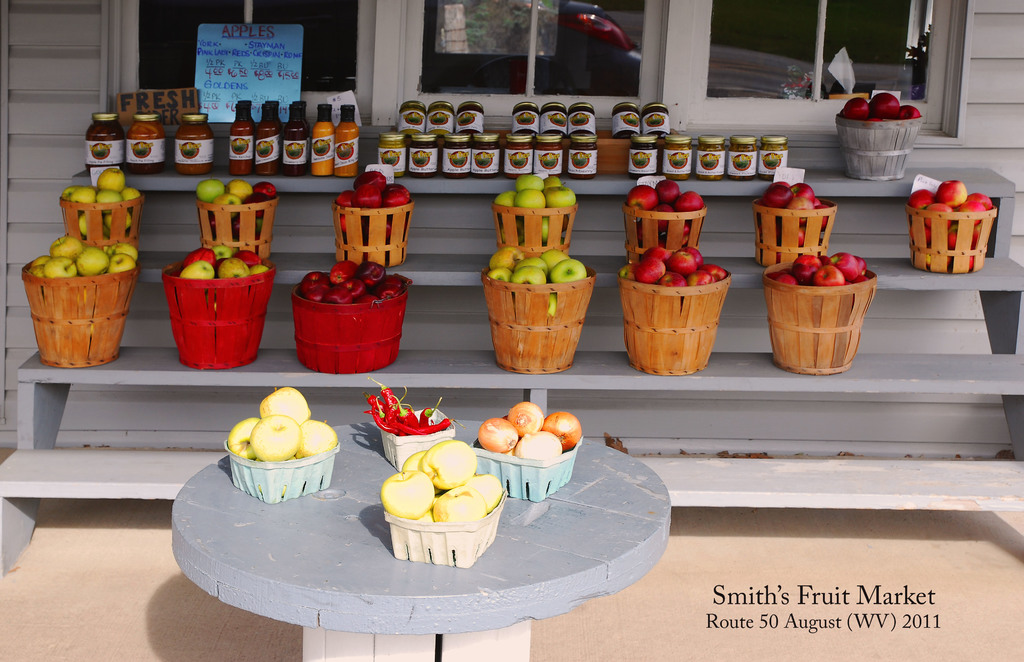Apple: (908, 178, 992, 268), (483, 246, 588, 312), (756, 178, 832, 261), (171, 243, 265, 307), (492, 170, 574, 242), (62, 165, 140, 236), (335, 170, 411, 242), (626, 179, 705, 247), (298, 257, 403, 305), (26, 232, 136, 276), (196, 179, 276, 237), (616, 246, 726, 287), (766, 249, 871, 286), (378, 467, 433, 523), (421, 440, 478, 489), (247, 414, 296, 460), (436, 485, 486, 523), (256, 386, 310, 421), (250, 455, 290, 493), (226, 417, 261, 459), (294, 417, 334, 452), (465, 478, 500, 505), (869, 92, 901, 116), (841, 95, 871, 117), (398, 447, 428, 468), (416, 504, 440, 521), (899, 104, 917, 120), (866, 112, 892, 119)
